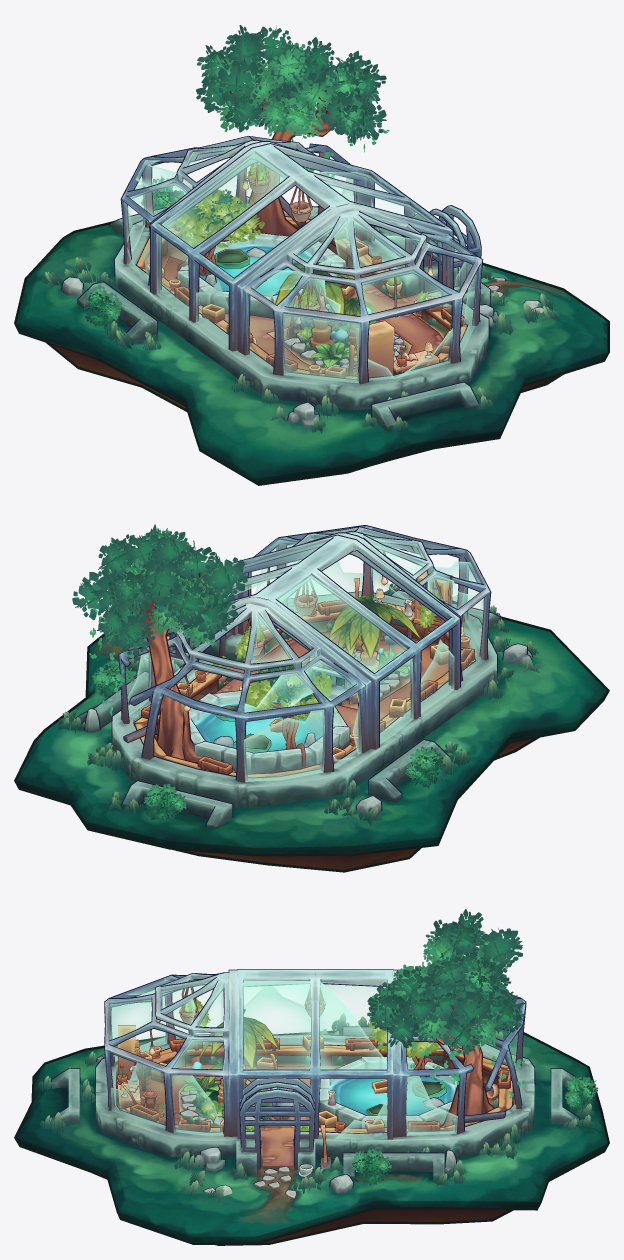
The model's file is stylized_mangrove_greenhouse.glb.
3 renders of one model, top to bottom at view 1: azimuth 30°, elevation 25°; view 2: azimuth 150°, elevation 25°; view 3: azimuth 270°, elevation 25°, orthographic. The views are drawn at different scales.
Visible parts, largest first — view 1: Plane, Cube.042, Plane.021, Cube.037, Cube.001, Cube.007, Cube.002, Cube.003, Cube.004, Circle, Cube.028, Plane.018 (+9 smaller); view 2: Plane, Cube.042, Plane.021, Cube.002, Cube.001, Cube.004, Circle, Cube.037, Cube.007, Cube.003, Circle.001, Cube.028 (+13 smaller); view 3: Plane, Cube.042, Plane.021, Cube.037, Cube.001, Cube.004, Cube.007, Circle, Cube.005, Cube.002, Cube.028, Cube.003 (+11 smaller).
Part boxes in pixels (x1=…): Plane: x1=14, y1=194, x2=609, y2=485; Cube.042: x1=124, y1=146, x2=477, y2=382; Plane.021: x1=196, y1=25, x2=386, y2=144; Cube.037: x1=242, y1=210, x2=483, y2=384; Cube.001: x1=150, y1=143, x2=453, y2=351; Cube.007: x1=187, y1=263, x2=490, y2=410; Cube.002: x1=120, y1=136, x2=356, y2=285; Cube.003: x1=150, y1=141, x2=453, y2=353; Cube.004: x1=114, y1=196, x2=404, y2=341; Circle: x1=177, y1=232, x2=346, y2=317; Cube.028: x1=164, y1=256, x2=442, y2=374; Plane.018: x1=163, y1=189, x2=264, y2=247; Plane: x1=14, y1=592, x2=609, y2=872; Cube.042: x1=127, y1=532, x2=486, y2=781; Plane.021: x1=72, y1=524, x2=248, y2=656; Cube.002: x1=118, y1=603, x2=368, y2=782; Cube.001: x1=188, y1=534, x2=460, y2=749; Cube.004: x1=111, y1=663, x2=422, y2=808; Circle: x1=188, y1=690, x2=350, y2=773; Cube.037: x1=248, y1=525, x2=491, y2=681; Cube.007: x1=171, y1=591, x2=497, y2=738; Cube.003: x1=154, y1=532, x2=460, y2=751; Circle.001: x1=132, y1=573, x2=207, y2=762; Cube.028: x1=214, y1=623, x2=448, y2=740; Plane: x1=14, y1=1028, x2=609, y2=1245; Cube.042: x1=109, y1=977, x2=517, y2=1139; Plane.021: x1=367, y1=909, x2=525, y2=1054; Cube.037: x1=104, y1=972, x2=229, y2=1136; Cube.001: x1=237, y1=969, x2=393, y2=1139; Cube.004: x1=315, y1=1034, x2=535, y2=1159; Cube.007: x1=95, y1=1034, x2=316, y2=1174; Circle: x1=319, y1=1056, x2=457, y2=1128; Cube.005: x1=239, y1=1078, x2=315, y2=1170; Cube.002: x1=401, y1=994, x2=526, y2=1136; Cube.028: x1=116, y1=1064, x2=485, y2=1167; Cube.003: x1=228, y1=969, x2=401, y2=1137.
Bounding box in the file's own units: 20.06 × 12.93 × 23.94.
18 materials, 15 textured.
